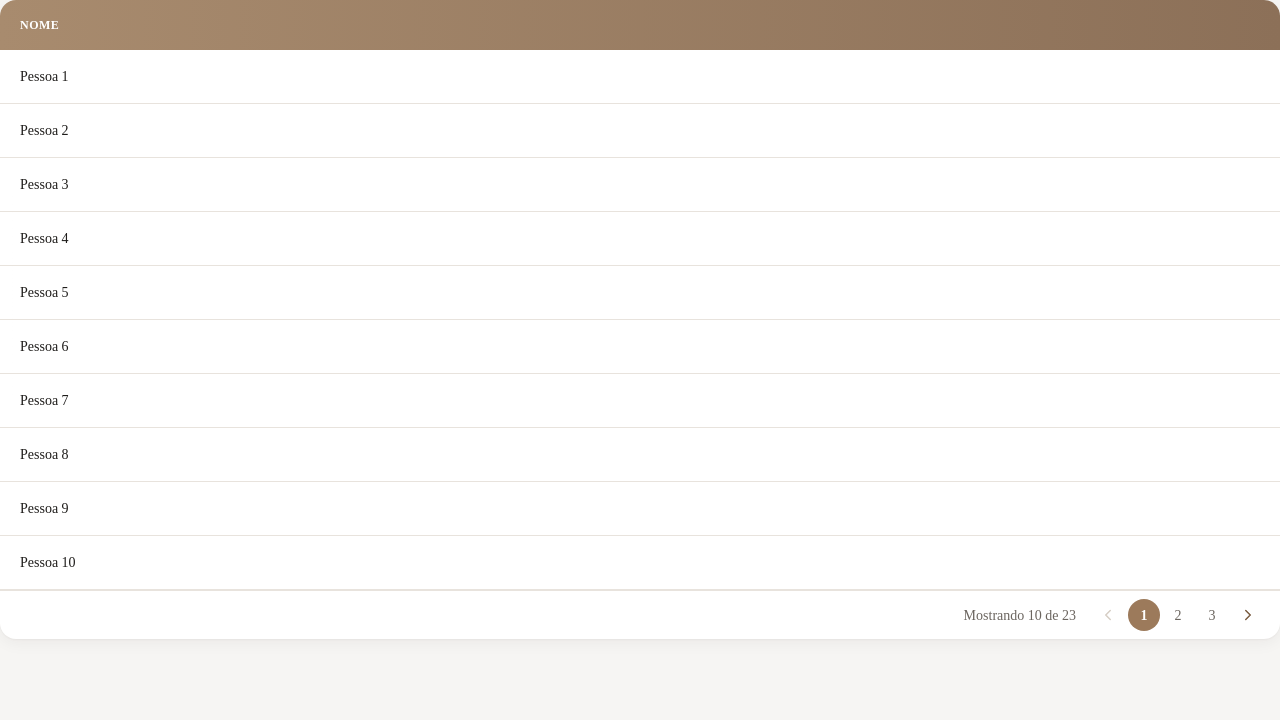
Test: DataTable com paginação › mostra 10 por página e navega pelos números e setas
Expected: the text "Mostrando 10 de 23" is shown, [964,604,1076,626]
Expected: the text "Pessoa 1" is shown, [0,50,1279,104]
Click the button named "Página 3". click: (1212, 615)
box: [1196,599,1228,631]
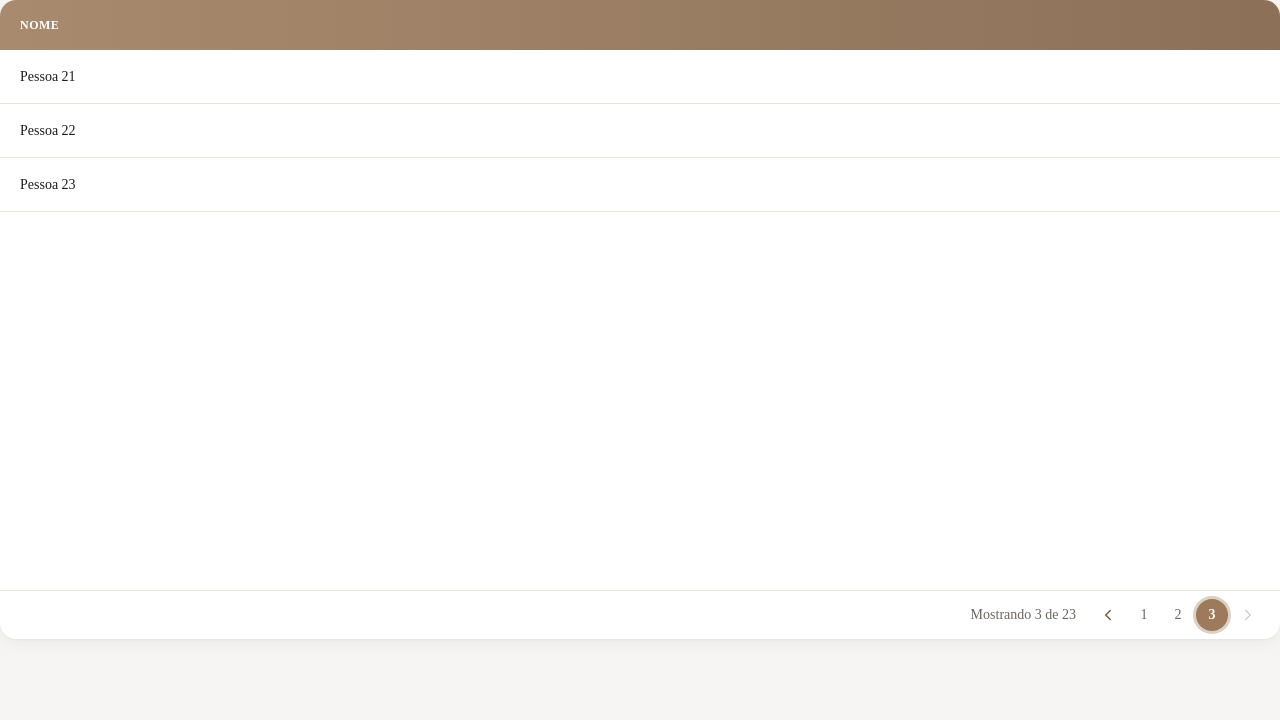
Expected: the button named "Próxima página" is disabled, [1232,598,1264,630]
Result: the text "Mostrando 3 de 23" is shown at [971,604,1076,625]
Result: the text "Pessoa 23" is shown at [0,158,1279,212]
Click the button named "Página anterior". click: (1108, 614)
box: [1092,598,1124,630]
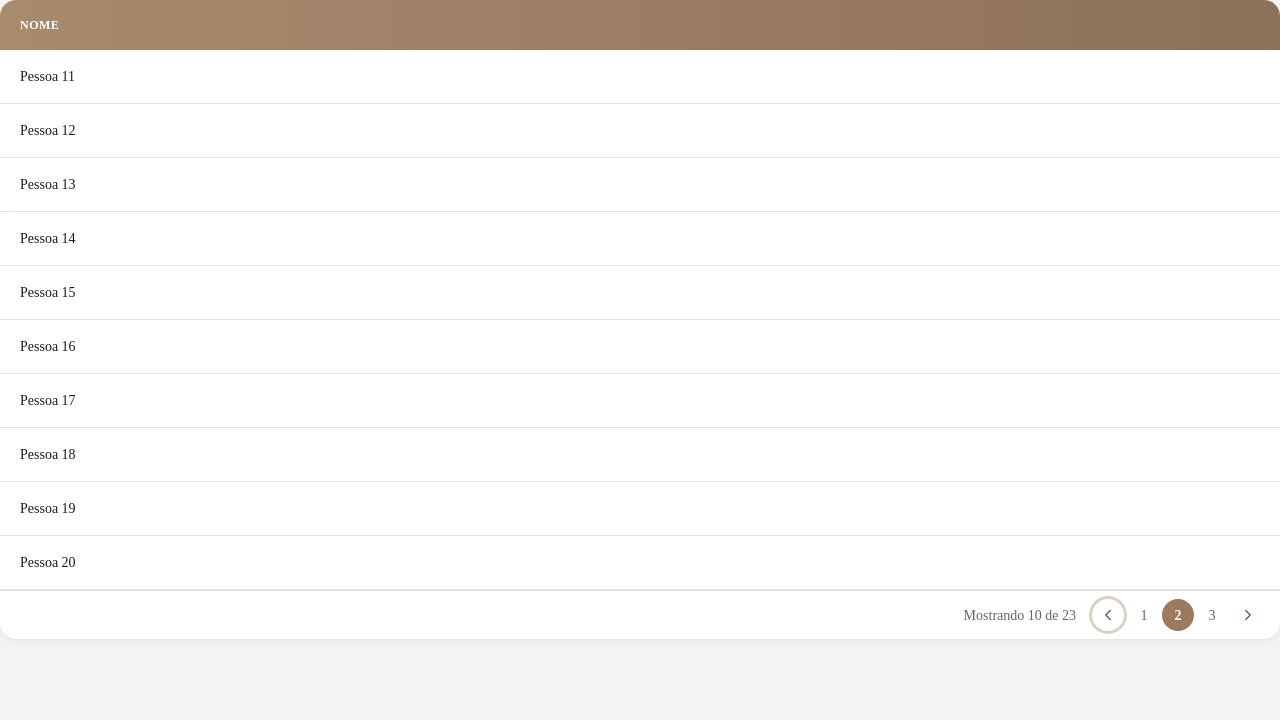
Result: the text "Pessoa 11" is shown at [0,50,1279,104]
